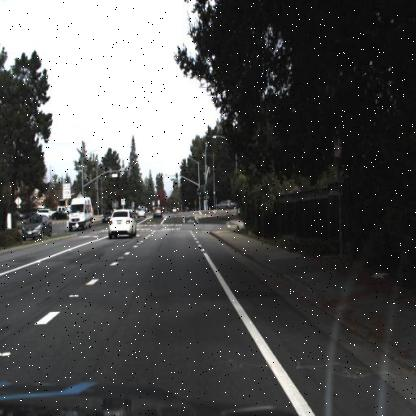car: (64, 194, 95, 234), (21, 213, 53, 244), (109, 207, 138, 239), (100, 205, 115, 230), (213, 197, 231, 212), (152, 205, 164, 221), (136, 206, 147, 218)
trafficLight-Green: (173, 172, 182, 184), (196, 188, 202, 202), (204, 186, 210, 198)
trafficLight-Red: (159, 168, 164, 184)
truck: (66, 195, 94, 233)
